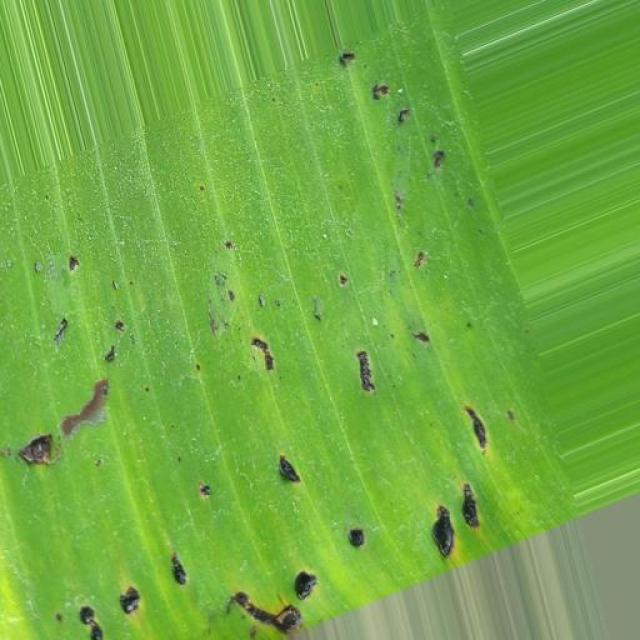Black_rot: (3, 250, 530, 640), (310, 33, 548, 209)
